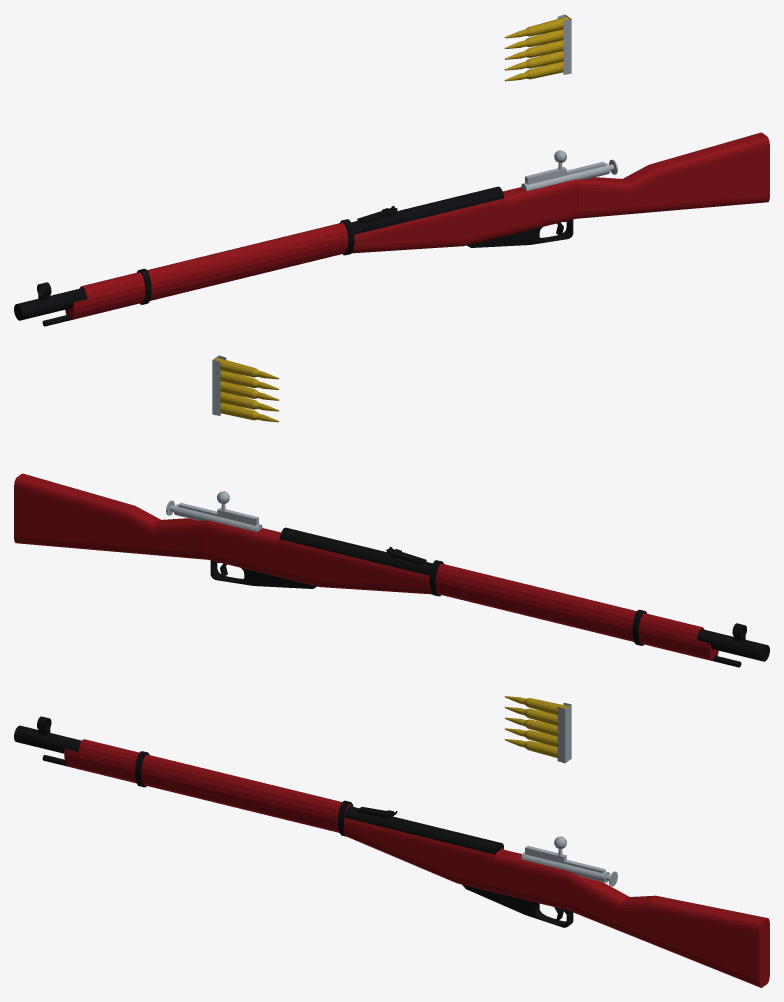
The model's file is mosin-nagant0037.obj.
3 views of the same model, one above another, from view 1: azimuth 30°, elevation 25°; view 2: azimuth 150°, elevation 25°; view 3: azimuth 330°, elevation 25° (orthographic).
Visible parts, largest first — view 1: stock, barrel, triggerGuard, bolt, bullet1; view 2: stock, barrel, triggerGuard, bolt, bullet1; view 3: stock, barrel, triggerGuard, clip, bolt, bullet1.
Part boxes in pixels (<box>): stock: <box>65,132,769,320</box>; barrel: <box>14,186,503,320</box>; triggerGuard: <box>466,219,573,247</box>; bolt: <box>521,163,609,191</box>; bullet1: <box>504,16,569,38</box>; stock: <box>14,473,718,661</box>; barrel: <box>280,527,769,661</box>; triggerGuard: <box>210,560,317,588</box>; bolt: <box>174,504,262,532</box>; bullet1: <box>214,357,279,379</box>; stock: <box>64,739,769,987</box>; barrel: <box>14,725,503,854</box>; triggerGuard: <box>462,884,573,927</box>; clip: <box>557,702,571,763</box>; bolt: <box>521,852,609,882</box>; bullet1: <box>505,696,568,715</box>.
Bounding box in the file's own units: 16.32 × 4.83 × 0.4228.
